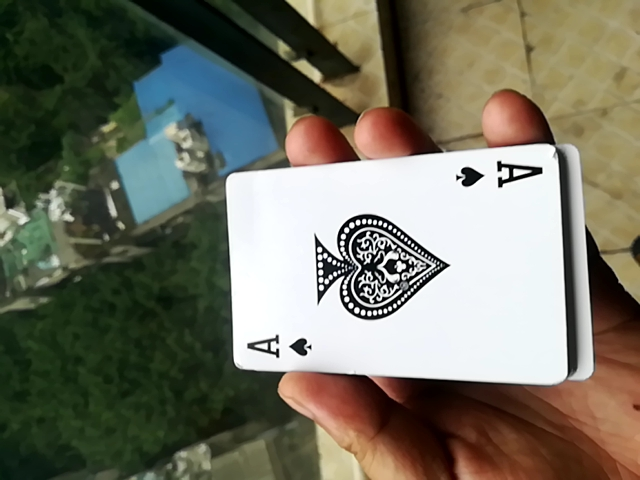ht a: (221, 146, 579, 393)
